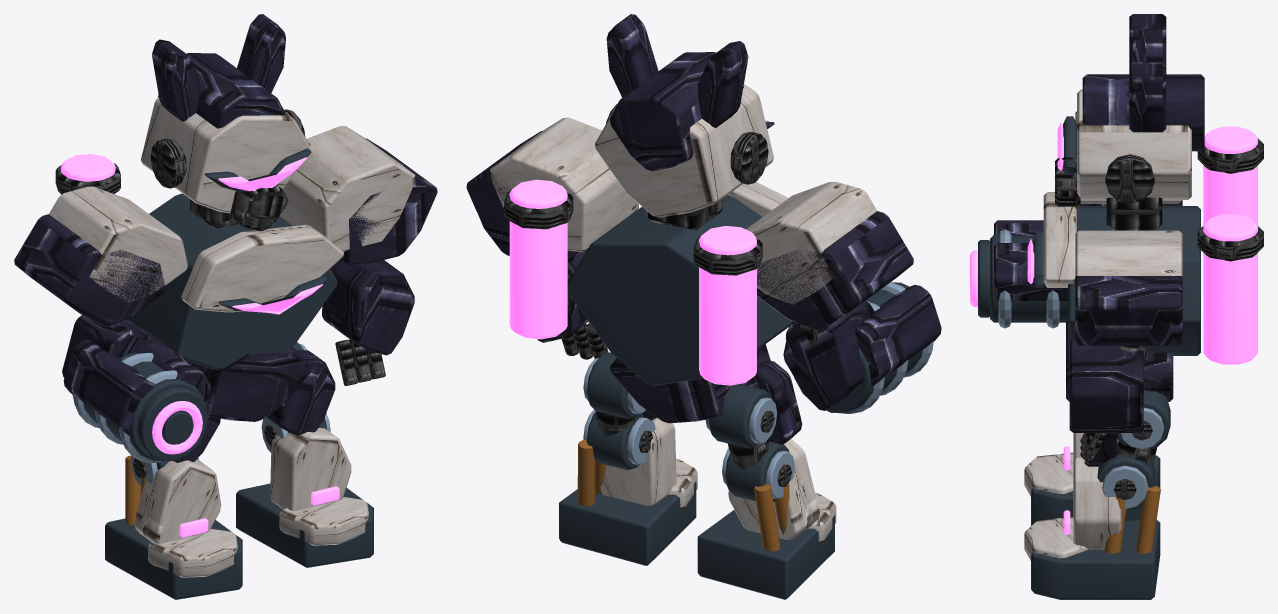
Rendered from scout.glb.
3 renders of one model, left to right at view 1: azimuth 30°, elevation 25°; view 2: azimuth 150°, elevation 25°; view 3: azimuth 270°, elevation 25°, orthographic. The views are drawn at different scales.
Parts seen in each view (by area): view 1: Navy crown, Cuirass yoke, Angular scout torso, Greave armor, Greave armor.001, Neck actuator, Servo housing.004, Servo housing.001, Recessed V optic, Tapered thigh shield.001, Bearing ring, Biome pressure capsule (+1 smaller); view 2: Navy crown, Cuirass yoke, Angular scout torso, Biome pressure capsule, Servo housing.001, Servo housing.004, Neck actuator, Greave armor.001, Greave armor, Tapered thigh shield, Bearing ring.002, Calf piston (+5 smaller); view 3: Navy crown, Cuirass yoke, Biome pressure capsule, Angular scout torso, Servo housing.004, Neck actuator, Greave armor.001, Greave armor, Bearing ring.008, Calf piston.002, Servo housing.001, Hub.008 (+3 smaller).
Part boxes in pixels (x1=…): Navy crown: x1=14, y1=14, x2=437, y2=435; Cuirass yoke: x1=49, y1=97, x2=415, y2=312; Angular scout torso: x1=72, y1=148, x2=337, y2=461; Greave armor: x1=134, y1=459, x2=237, y2=577; Greave armor.001: x1=270, y1=428, x2=368, y2=545; Neck actuator: x1=55, y1=109, x2=385, y2=385; Servo housing.004: x1=236, y1=342, x2=373, y2=567; Servo housing.001: x1=105, y1=461, x2=242, y2=599; Recessed V optic: x1=152, y1=157, x2=322, y2=454; Tapered thigh shield.001: x1=267, y1=350, x2=335, y2=435; Bearing ring: x1=73, y1=353, x2=177, y2=463; Biome pressure capsule: x1=61, y1=154, x2=115, y2=194; Navy crown: x1=466, y1=14, x2=941, y2=423; Cuirass yoke: x1=489, y1=84, x2=876, y2=304; Angular scout torso: x1=567, y1=121, x2=922, y2=413; Biome pressure capsule: x1=509, y1=179, x2=756, y2=385; Servo housing.001: x1=697, y1=384, x2=834, y2=599; Servo housing.004: x1=559, y1=352, x2=696, y2=565; Neck actuator: x1=504, y1=103, x2=817, y2=359; Greave armor.001: x1=600, y1=417, x2=697, y2=509; Greave armor: x1=728, y1=439, x2=836, y2=543; Tapered thigh shield: x1=746, y1=360, x2=802, y2=444; Bearing ring.002: x1=705, y1=397, x2=794, y2=498; Calf piston: x1=754, y1=483, x2=789, y2=551; Navy crown: x1=994, y1=14, x2=1204, y2=432; Cuirass yoke: x1=1043, y1=89, x2=1191, y2=287; Biome pressure capsule: x1=1203, y1=126, x2=1257, y2=364; Angular scout torso: x1=978, y1=116, x2=1200, y2=355; Servo housing.004: x1=1031, y1=390, x2=1170, y2=599; Neck actuator: x1=1055, y1=138, x2=1263, y2=461; Greave armor.001: x1=1024, y1=457, x2=1121, y2=560; Greave armor: x1=1024, y1=433, x2=1118, y2=496; Bearing ring.008: x1=1102, y1=407, x2=1163, y2=509; Calf piston.002: x1=1104, y1=485, x2=1160, y2=553; Servo housing.001: x1=1031, y1=455, x2=1160, y2=525; Hub.008: x1=1114, y1=420, x2=1157, y2=499.
Bounding box in the file's own units: 1.17 × 1.52 × 0.7935.
Materials: 8 (3 with a texture image).
